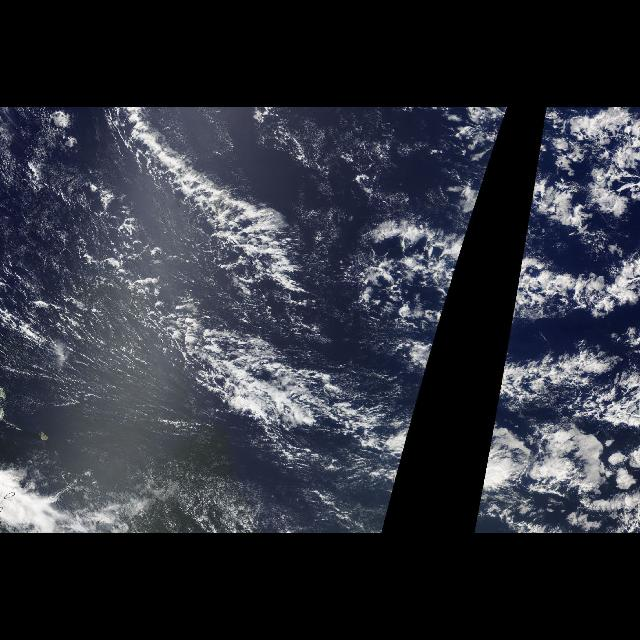Fish: (105, 107, 507, 467), (491, 113, 639, 437)
Gravel: (0, 112, 212, 450)
Sugar: (2, 196, 366, 534)
